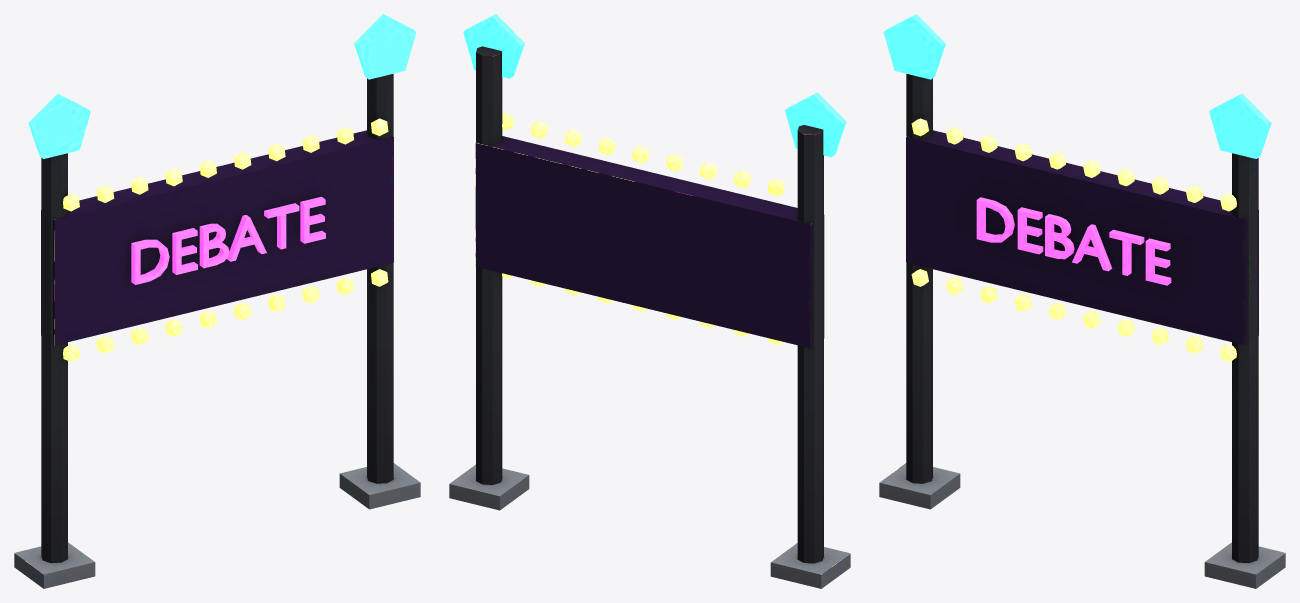
The model's file is marquesina.glb.
The picture shows the model from 3 angles, left to right: view 1: azimuth 30°, elevation 25°; view 2: azimuth 150°, elevation 25°; view 3: azimuth 330°, elevation 25°; orthographic projection.
Parts seen in each view (by area): view 1: marquesina; view 2: marquesina; view 3: marquesina.
Boxes of the visible parts, left/top/right/bottom form: marquesina: left=14, top=14, right=420, bottom=588; marquesina: left=449, top=14, right=850, bottom=588; marquesina: left=879, top=14, right=1285, bottom=588.
Size of the model in its own units: 2.24 by 2.68 by 0.3.
1 material, 1 textured.
